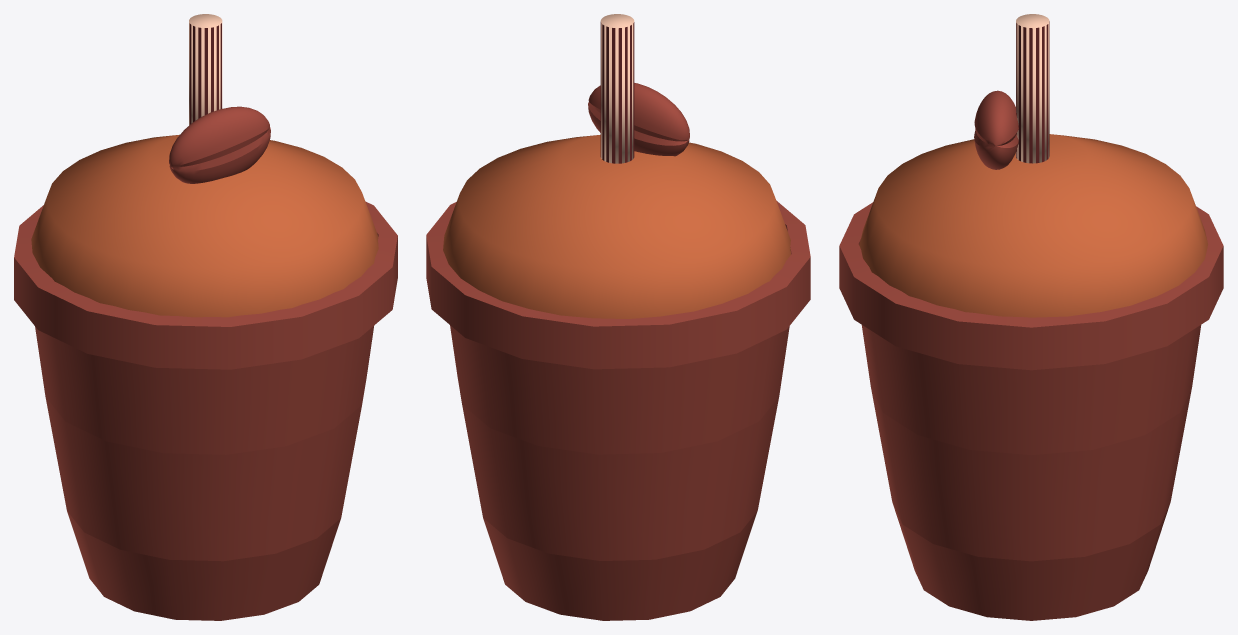
Rendered from shake-kawa.gltf.
The picture shows the model from 3 angles, left to right: view 1: azimuth 30°, elevation 25°; view 2: azimuth 150°, elevation 25°; view 3: azimuth 270°, elevation 25°; orthographic projection.
Parts seen in each view (by area): view 1: Cylinder, Cylinder.001, Sphere, Cylinder.002; view 2: Cylinder, Cylinder.001, Cylinder.002, Sphere; view 3: Cylinder, Cylinder.001, Cylinder.002, Sphere.
Boxes of the visible parts, x1,y1,x2,y2 form: Cylinder: (14,201,397,620); Cylinder.001: (31,134,378,317); Sphere: (169,106,270,183); Cylinder.002: (189,14,222,125); Cylinder: (426,200,810,620); Cylinder.001: (443,134,790,318); Cylinder.002: (600,14,634,163); Sphere: (588,83,689,156); Cylinder: (839,202,1223,620); Cylinder.001: (859,134,1207,317); Cylinder.002: (1016,14,1049,163); Sphere: (974,90,1018,169).
Bounding box in the file's own units: 1.37 × 2.21 × 1.36.
Materials: 1 (1 with a texture image).
